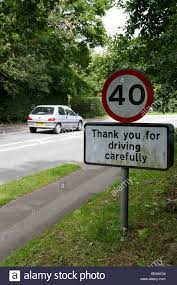Speed_limit_40km: (100, 69, 153, 123)
